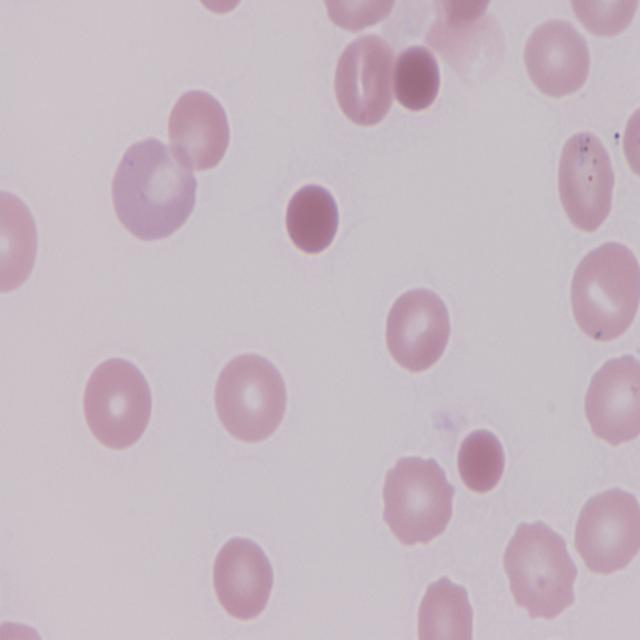RBC: (108, 134, 200, 243), (502, 515, 580, 621), (567, 240, 640, 348), (78, 354, 154, 456), (213, 349, 292, 447), (378, 453, 456, 548), (572, 482, 640, 578), (520, 13, 591, 102), (556, 128, 618, 228), (382, 284, 453, 371), (165, 88, 233, 174), (580, 352, 640, 449), (212, 532, 276, 622), (0, 179, 41, 300), (413, 577, 478, 640), (568, 0, 640, 39)
Spherocyte: (282, 184, 342, 256), (390, 43, 444, 113), (457, 428, 509, 496)
